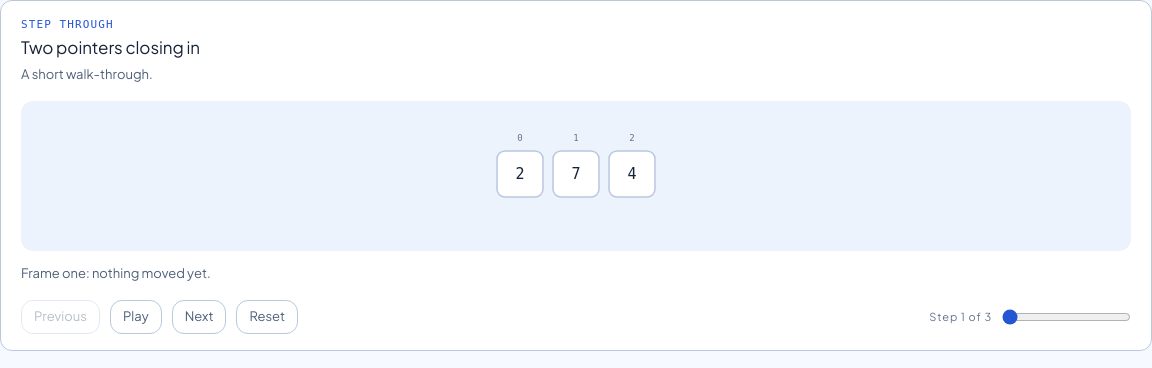
Test: VizBlock › previous is disabled on frame 0 and next is disabled on the last frame
Expected: the button "Previous" is disabled, [21,300,100,334]
Click the button "Next" at (199,317), box [172,300,226,334]
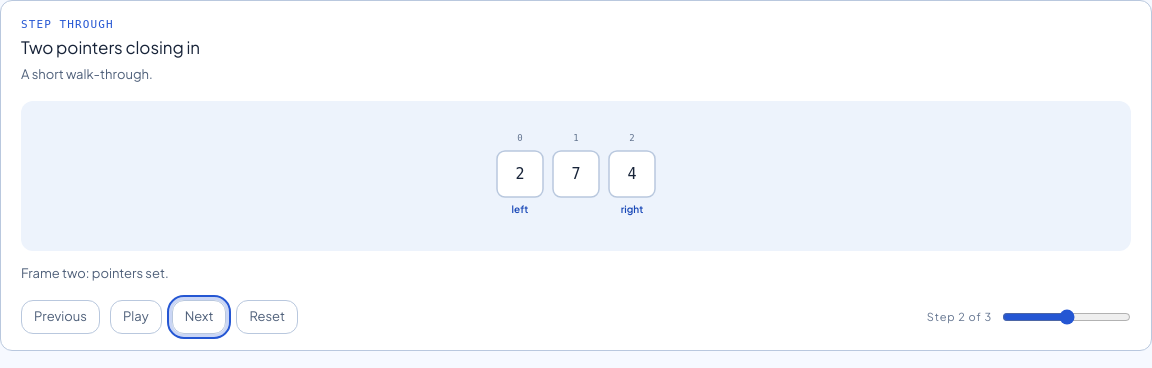
Click the button "Next" at (199,317), box [172,300,226,334]
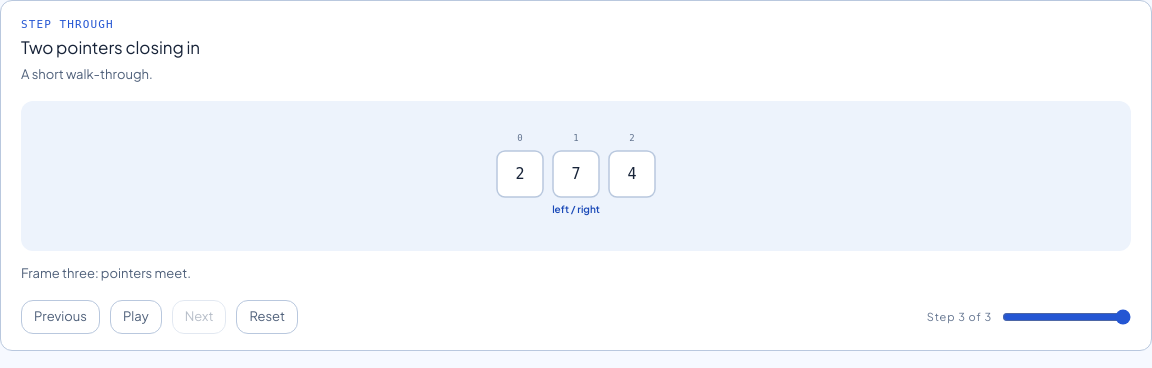
Now the button "Next" is disabled, box [172,300,226,334]
Now the message reads "Frame three: pointers meet.", box [21,265,191,281]
